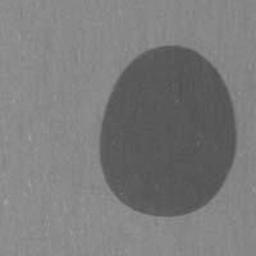Oil spot: (97, 44, 239, 219)
